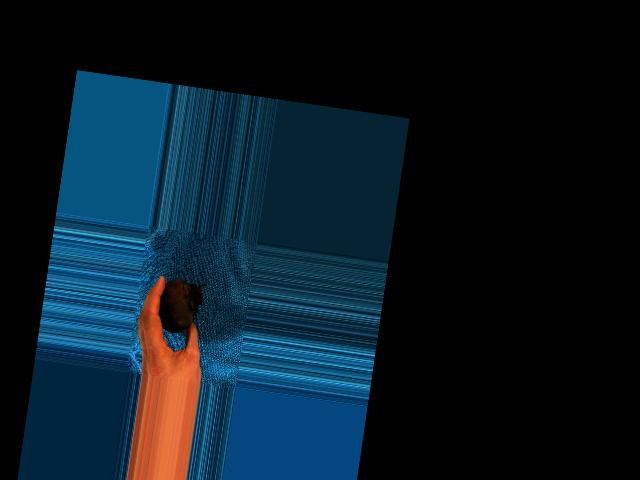beet: (156, 277, 206, 335)
